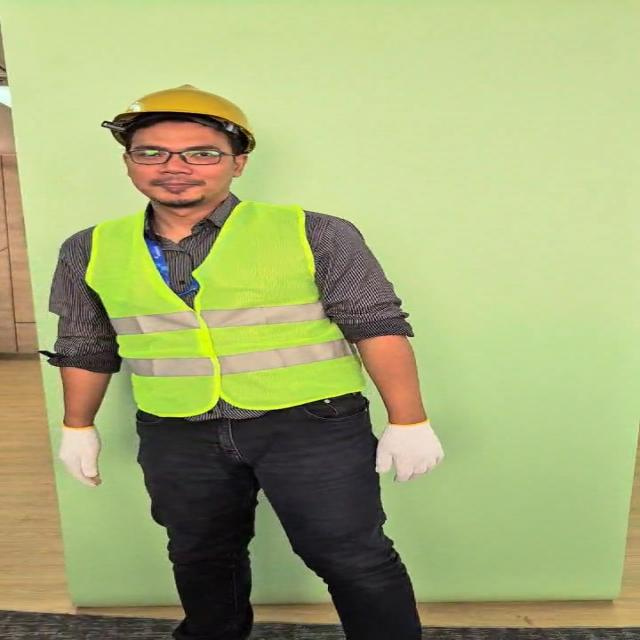gloves: (368, 415, 448, 484), (49, 418, 111, 487)
goggles: (120, 141, 238, 169)
helmet: (95, 79, 271, 156)
safety_vest: (101, 190, 344, 422)
